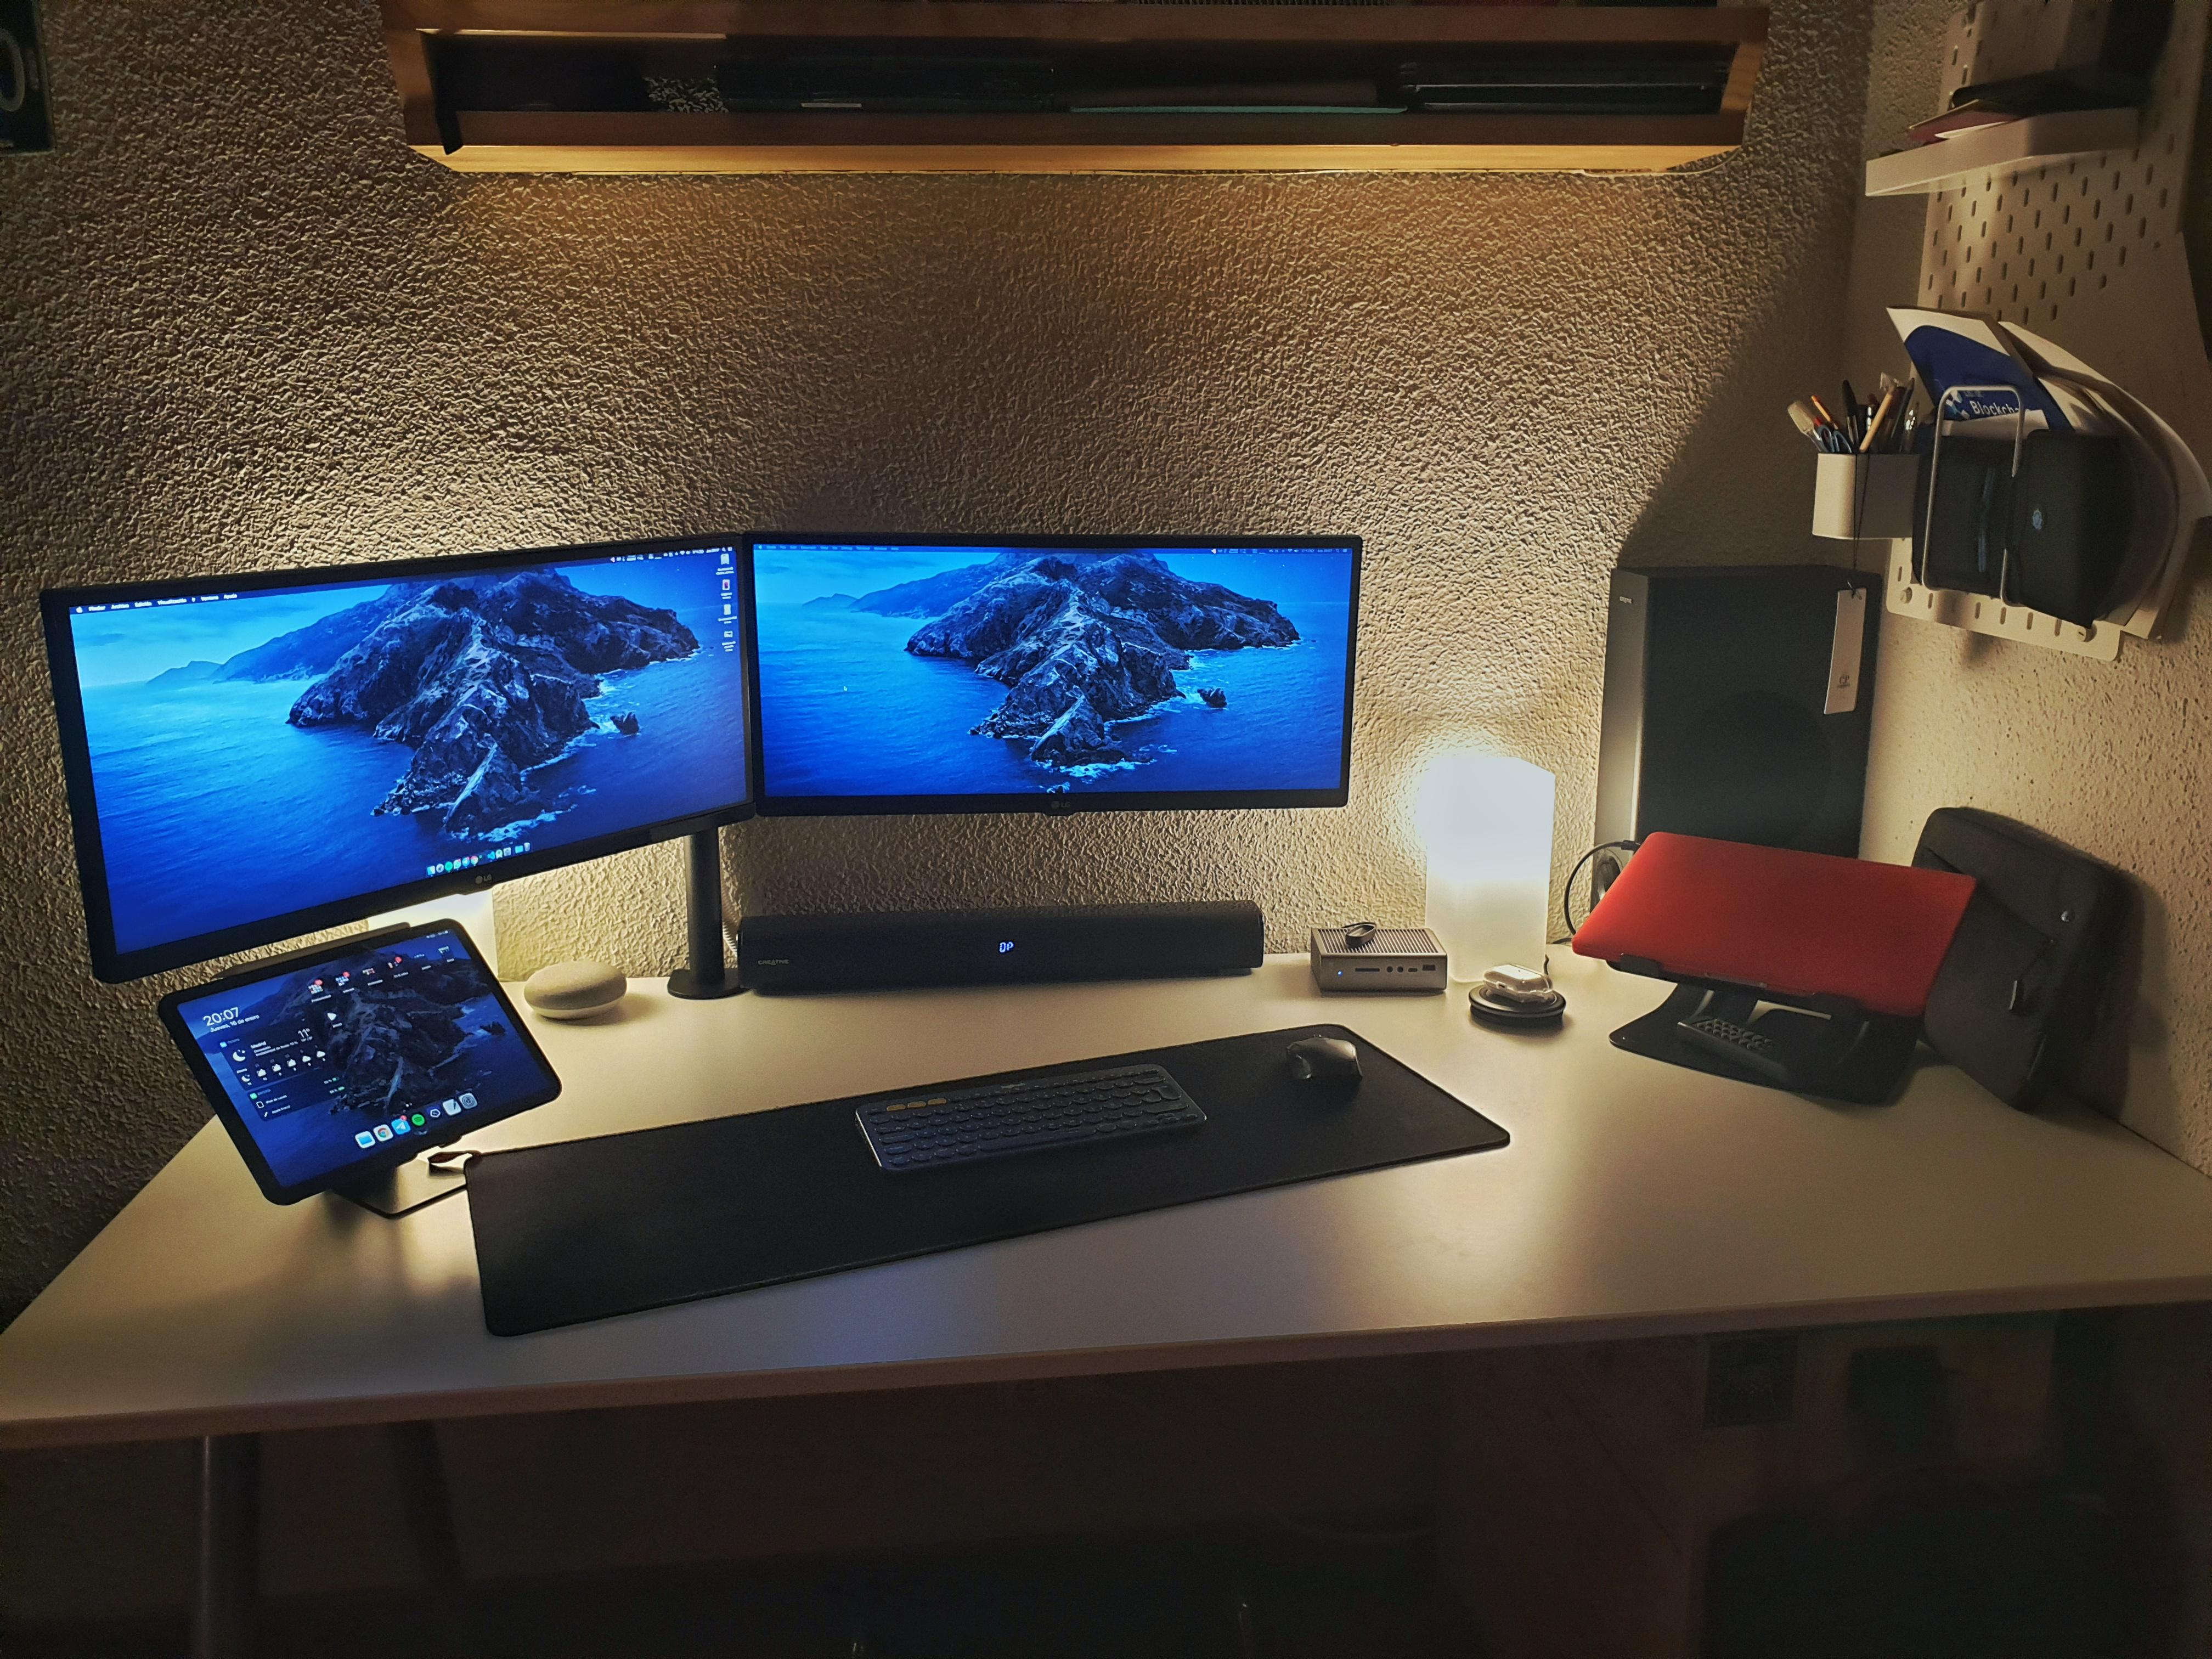Airpods (Apple): (1491, 964, 1552, 993)
Cellphone Charger (Wireless): (1453, 990, 1580, 1047)
Desk (Generic): (0, 939, 2212, 1401)
External Sound Card (Pre-amplifier): (1315, 906, 1446, 995)
External Speakers (Generic): (1562, 542, 1874, 835), (742, 899, 1299, 983)
IoT Devices (Raspberry, Arduino, etc): (529, 948, 632, 1021)
Keyboard (Generic): (834, 1068, 1240, 1182)
Lamp (Desk): (1425, 749, 1566, 967), (333, 882, 547, 969)
Laptop (OSX): (1583, 835, 1952, 1002)
Laptop Stand: (1592, 979, 1937, 1091)
Monitor (Landscape): (40, 532, 756, 957), (752, 538, 1350, 803)
Monitor Arm: (678, 852, 761, 1030)
Mouse (Generic): (1270, 1021, 1402, 1119)
Mousepad (Gaming): (462, 1021, 1514, 1310)
Tablet (iPad): (162, 924, 550, 1204)
